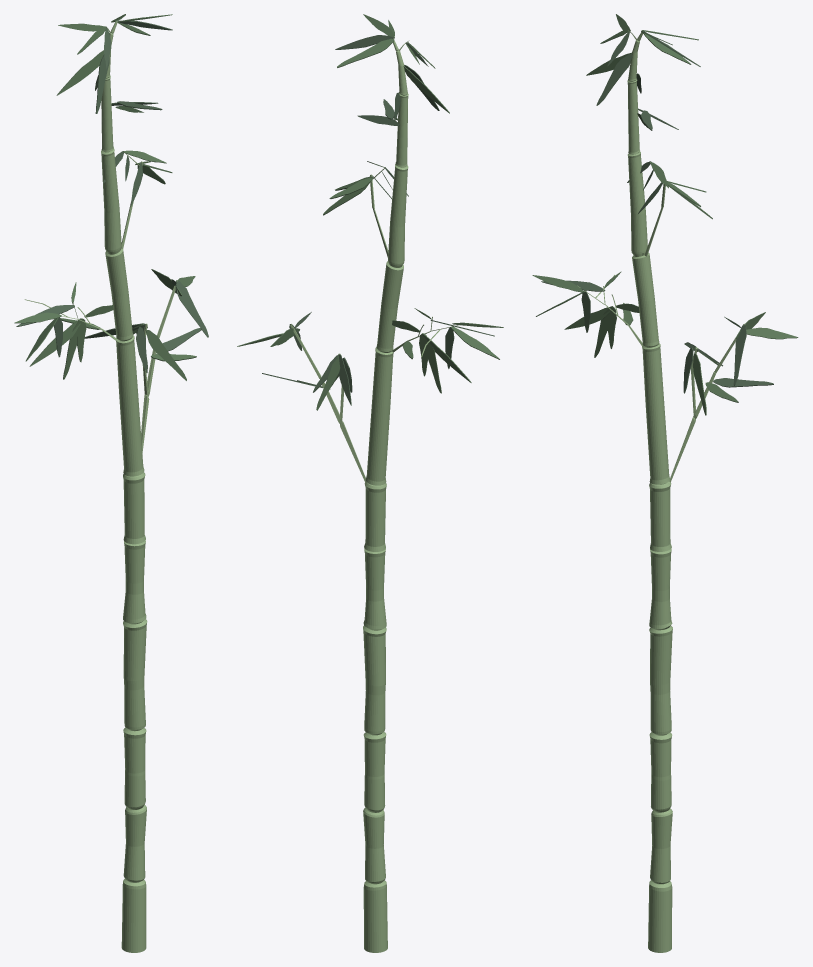
File: bamboo2-2.fbx
3 views of the same model, side by side, from view 1: azimuth 30°, elevation 25°; view 2: azimuth 150°, elevation 25°; view 3: azimuth 330°, elevation 25° (orthographic).
Visible parts, largest first — view 1: Plane.202; view 2: Plane.202; view 3: Plane.202.
Boxes of the visible parts, x1,y1,x2,y2 form: Plane.202: [14, 14, 208, 952]; Plane.202: [237, 14, 503, 952]; Plane.202: [532, 14, 798, 952].
Size of the model in its own units: 1897 by 7517 by 916.
